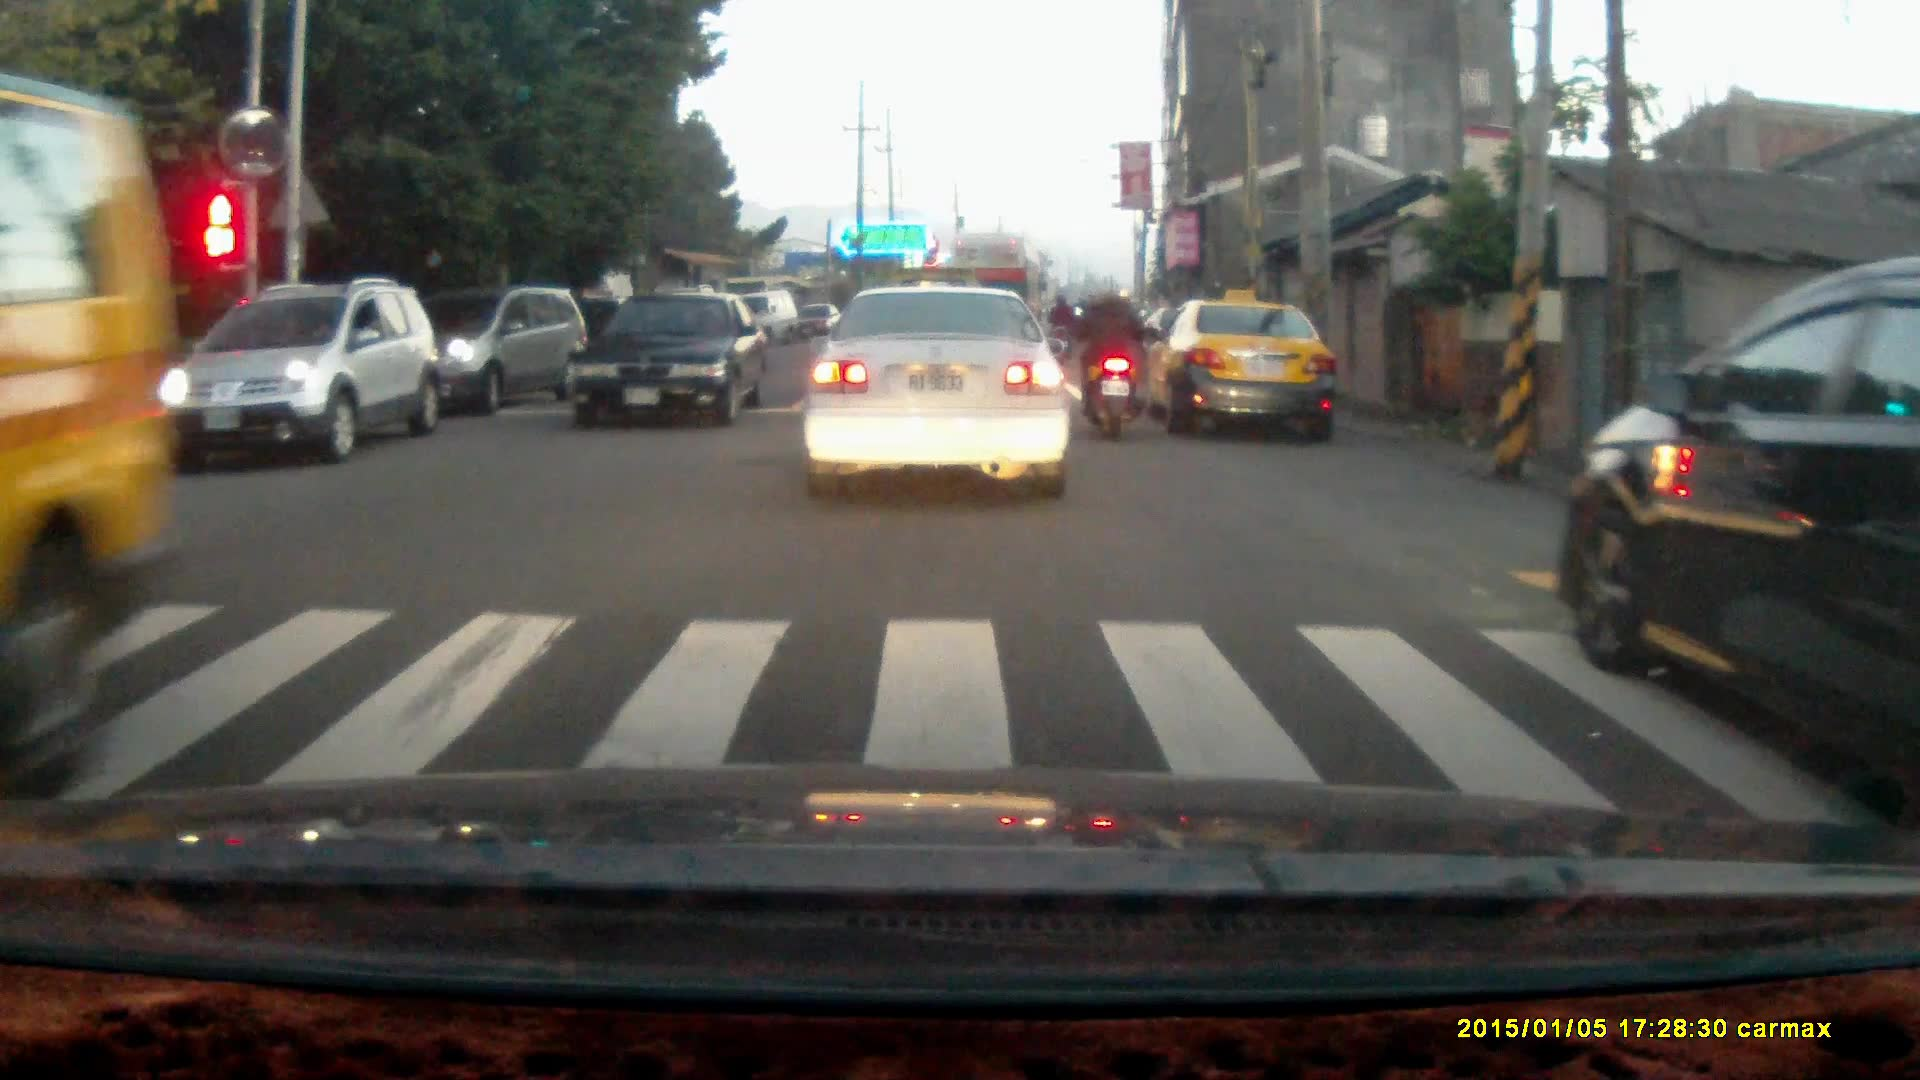rider: (1073, 273, 1150, 442)
vehicle: (1578, 276, 1920, 766), (2, 84, 181, 809), (803, 282, 1078, 502), (163, 281, 442, 468), (567, 286, 771, 433), (1148, 298, 1337, 440)
